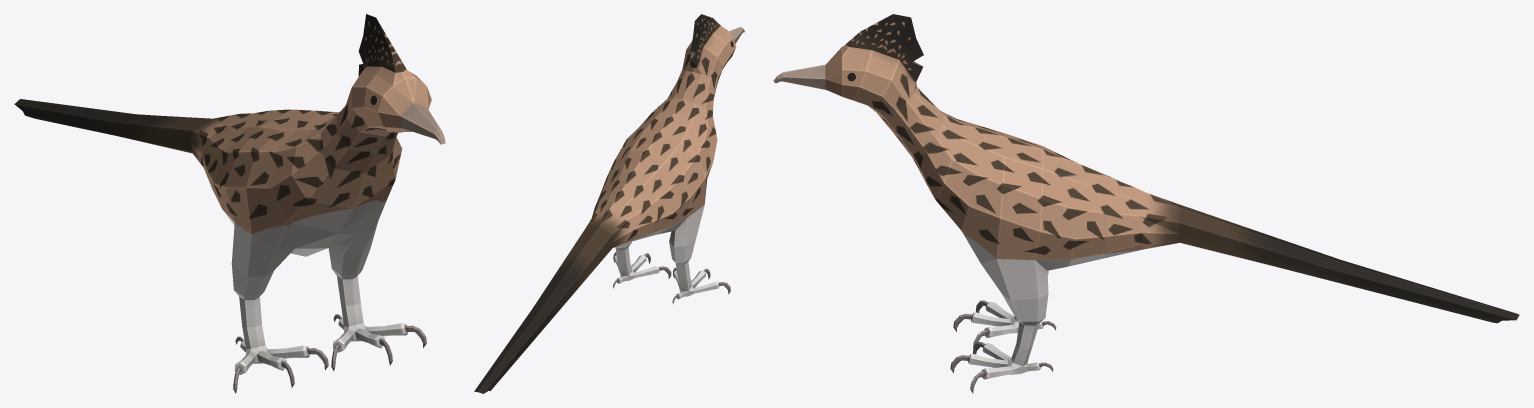
3 renders of one model, left to right at view 1: azimuth 30°, elevation 25°; view 2: azimuth 150°, elevation 25°; view 3: azimuth 270°, elevation 25°, orthographic. The views are drawn at different scales.
Visible parts, largest first — view 1: Roadrunner_mesh; view 2: Roadrunner_mesh; view 3: Roadrunner_mesh.
Part boxes in pixels (x1,y1,x2,y2): Roadrunner_mesh: [14, 14, 445, 393]; Roadrunner_mesh: [474, 14, 744, 393]; Roadrunner_mesh: [773, 14, 1519, 393].
Bounding box in the file's own units: 4.92 × 9.64 × 19.02.
Materials: 1 (1 with a texture image).
